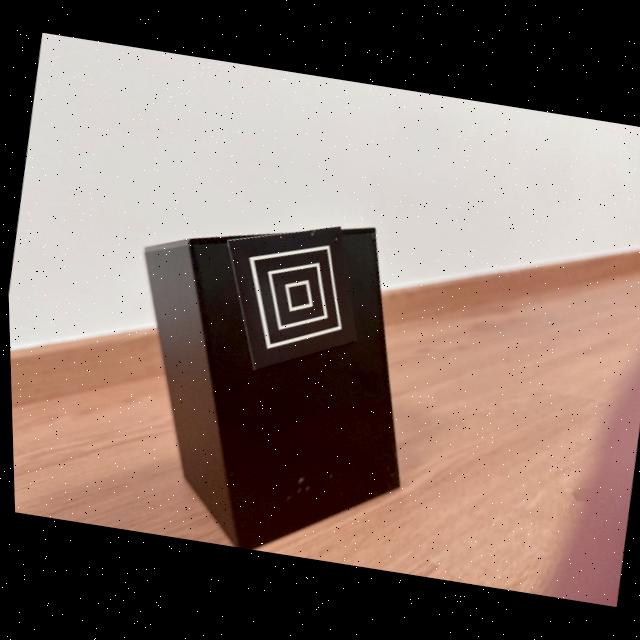BULLSEYE: (227, 226, 358, 371)
